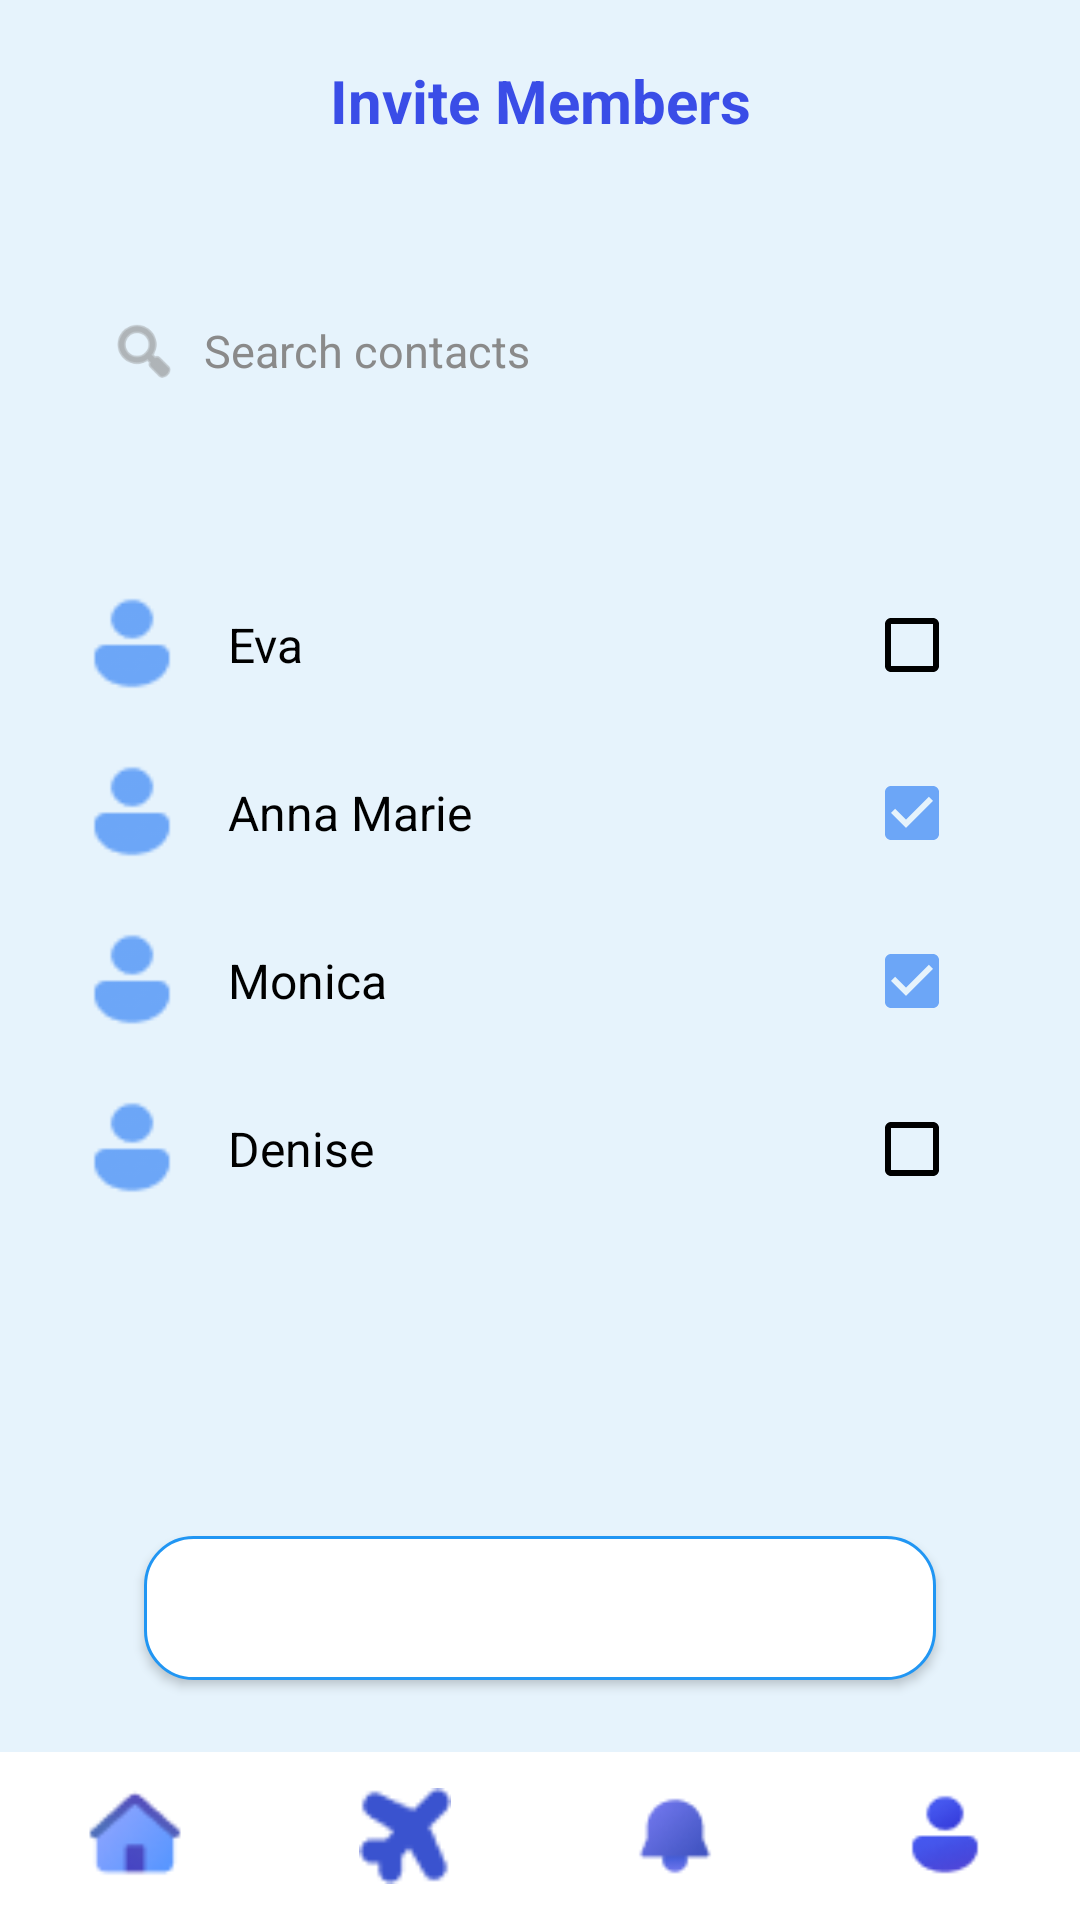

Icon click points for this 1080x1920 phone screenshot, format (x,y):
airplane: (405,1836)
home: (135,1834)
notifications: (675,1835)
user: (132,643), (132,811), (132,979), (132,1147), (945,1835)
